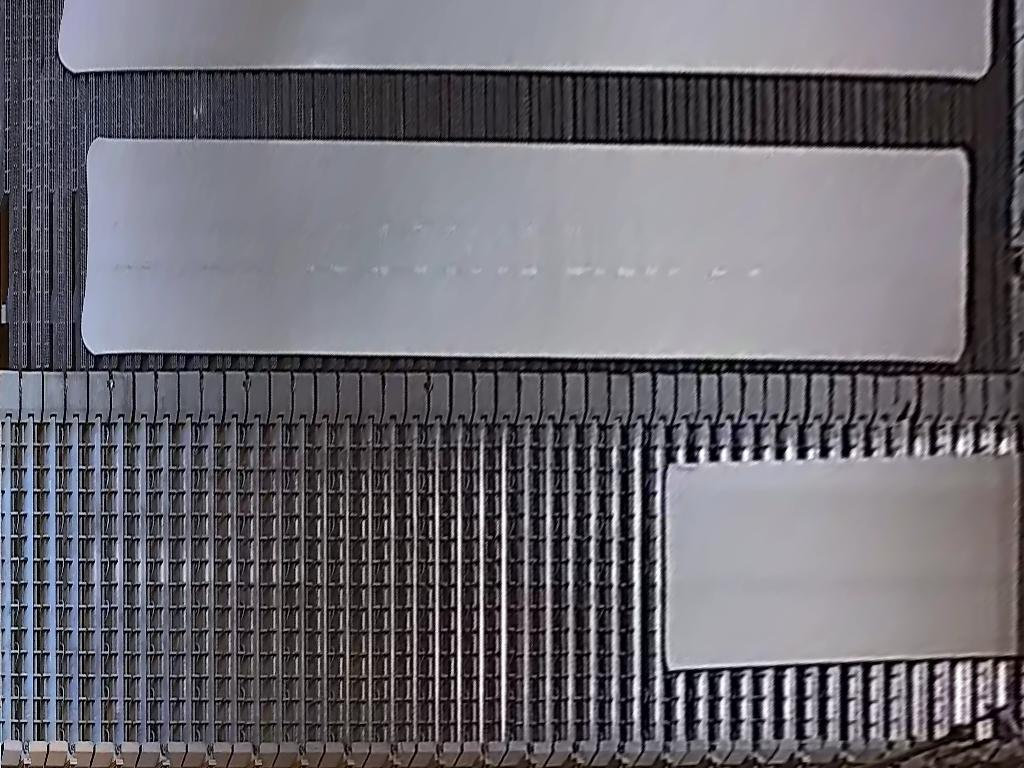steel: (82, 134, 968, 363), (665, 454, 1022, 669), (56, 1, 994, 77)
